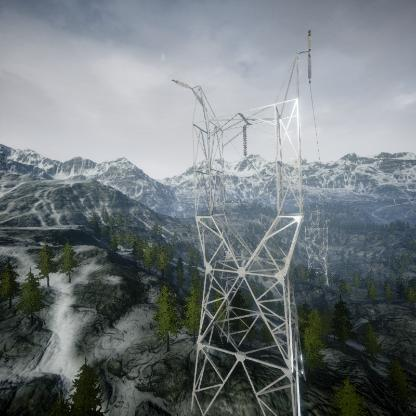insulator: (241, 125, 249, 157)
tower: (168, 30, 311, 416)
